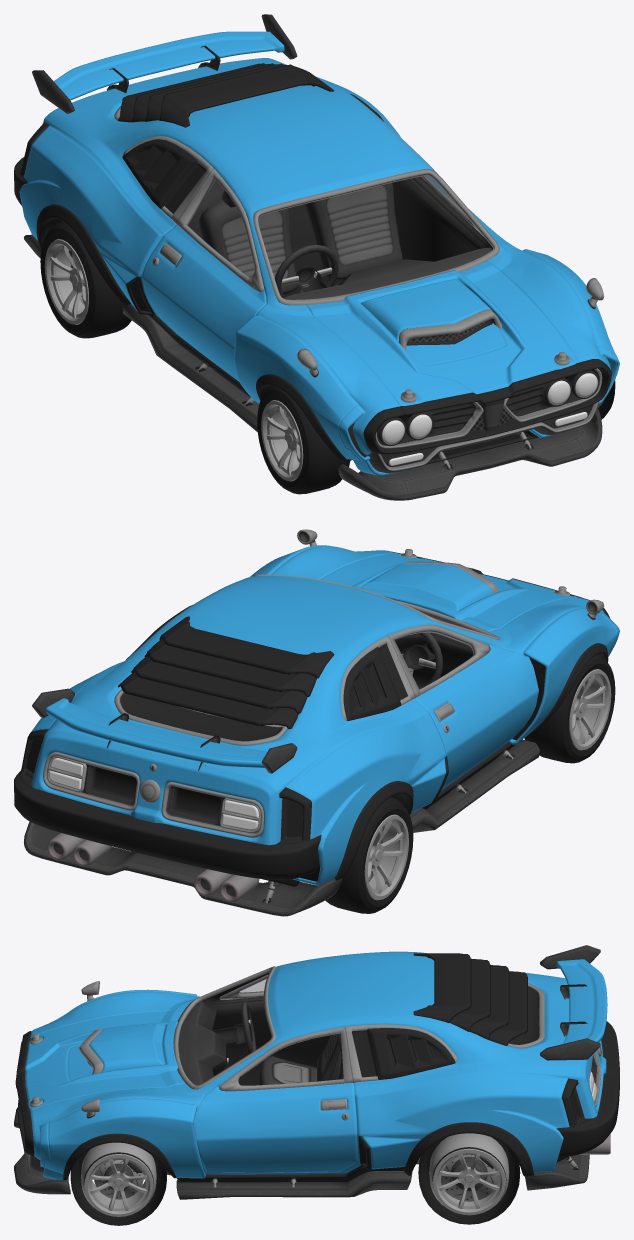
3 renders of one model, top to bottom at view 1: azimuth 30°, elevation 25°; view 2: azimuth 150°, elevation 25°; view 3: azimuth 270°, elevation 25°, orthographic. The views are drawn at different scales.
Visible parts, largest first — view 1: mesh_122.001, mesh_116, mesh_123.002, mesh_114.002, Wheel_LB, Wheel_LF, mesh_159.002; view 2: mesh_122.001, mesh_114.002, mesh_116, Wheel_LB, Wheel_LF, mesh_123.002, mesh_159.002; view 3: mesh_122.001, mesh_114.002, mesh_116, mesh_123.002, Wheel_RB, Wheel_RF.
Part boxes in pixels (x1,y1,x2,y2): mesh_122.001: (19,31,619,475); mesh_116: (24,14,603,500); mesh_123.002: (188,176,492,328); mesh_114.002: (14,63,611,464); Wheel_LB: (40,221,131,338); Wheel_LF: (257,386,350,494); mesh_159.002: (382,373,597,465); mesh_122.001: (21,545,619,885); mesh_114.002: (14,550,610,886); mesh_116: (24,529,603,916); Wheel_LB: (325,797,413,913); Wheel_LF: (524,654,615,763); mesh_123.002: (394,611,473,689); mesh_159.002: (49,758,258,830); mesh_122.001: (25,951,607,1179); mesh_114.002: (15,953,619,1182); mesh_116: (14,945,610,1201); mesh_123.002: (178,973,343,1085); Wheel_RB: (418,1133,520,1224); Wheel_RF: (70,1142,166,1225).
Bounding box in the file's own units: 26.37 × 17.39 × 51.11.
9 materials, 3 textured.
